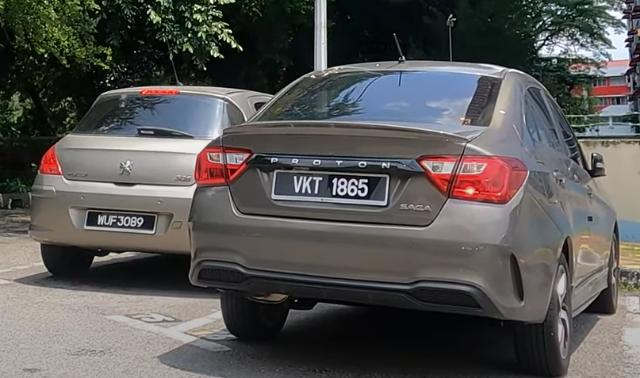License_Plate: (271, 169, 391, 207), (88, 214, 155, 232)
car: (188, 59, 622, 378), (28, 85, 277, 277)
